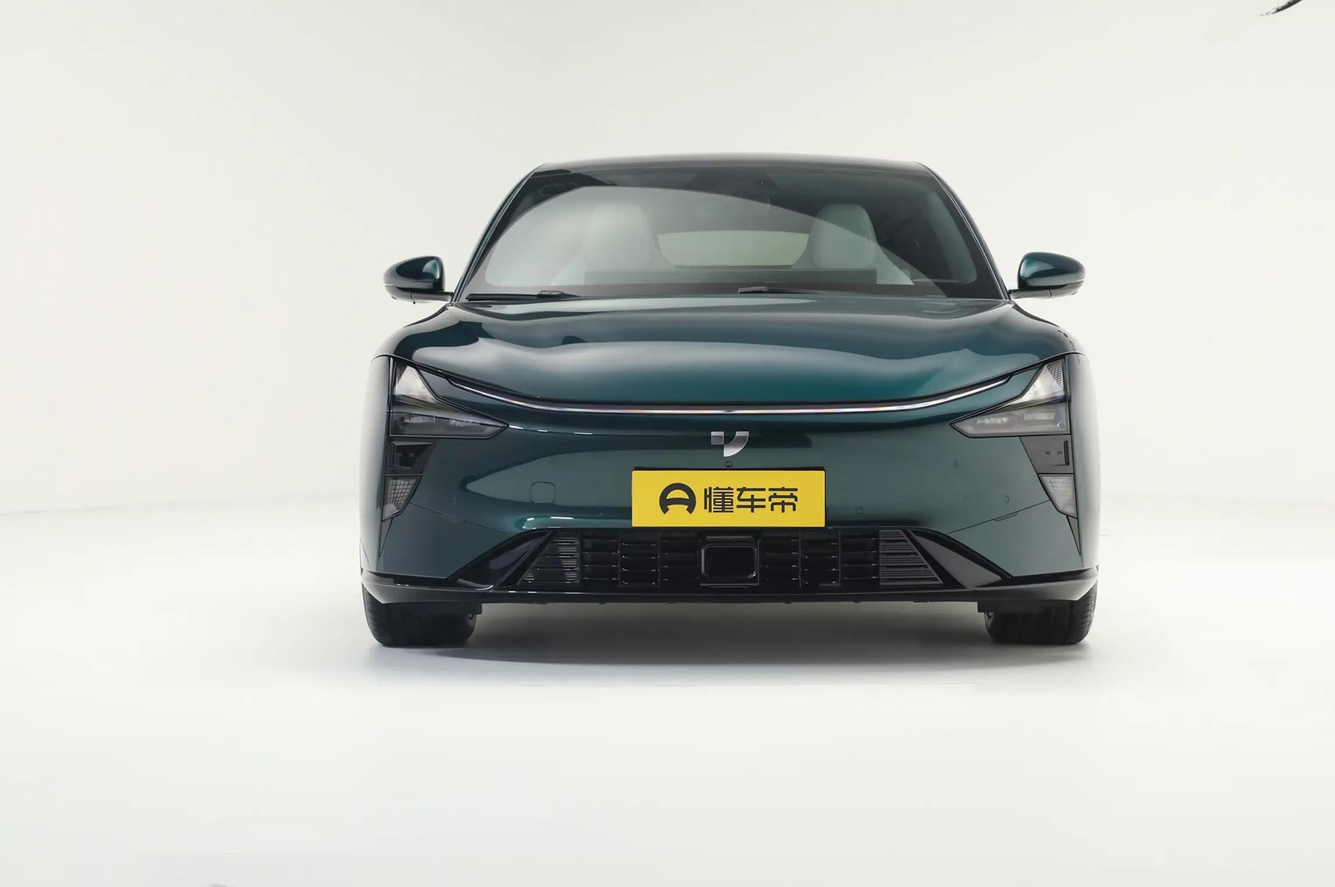JIYUE: (711, 431, 749, 457)
